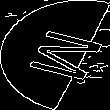M_E: (9, 25, 101, 85)
